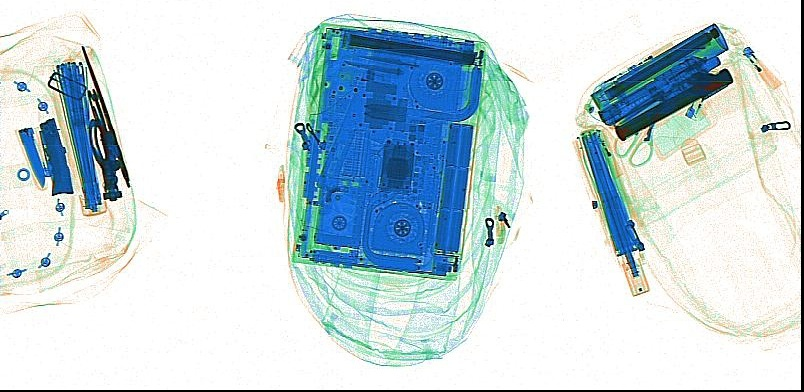handcuffs: (86, 86, 121, 200)
knife: (315, 28, 422, 193), (77, 43, 129, 189), (36, 114, 75, 196), (14, 126, 49, 188)
lighter: (742, 46, 782, 90), (624, 38, 673, 73), (684, 76, 709, 117)
pressure: (611, 23, 728, 106)
scissors: (611, 92, 661, 167)
